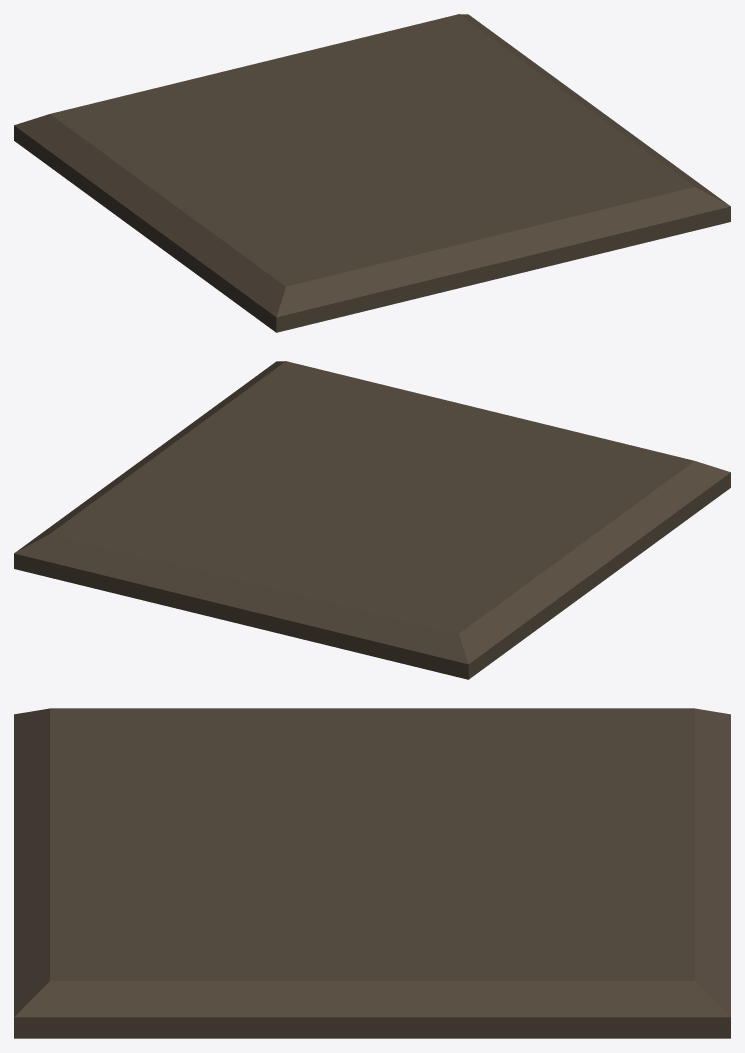
Rendered from WM_DisplayPlatform.fbx.
The picture shows the model from 3 angles, top to bottom: view 1: azimuth 30°, elevation 25°; view 2: azimuth 150°, elevation 25°; view 3: azimuth 270°, elevation 25°; orthographic projection. The views are drawn at different scales.
Visible parts, largest first — view 1: polySurface19; view 2: polySurface19; view 3: polySurface19.
Boxes of the visible parts, bbox=[...] form: polySurface19: bbox=[14, 14, 730, 332]; polySurface19: bbox=[14, 361, 730, 679]; polySurface19: bbox=[14, 708, 730, 1038].
Bounding box in the file's own units: 6.9 × 0.4483 × 6.9.
